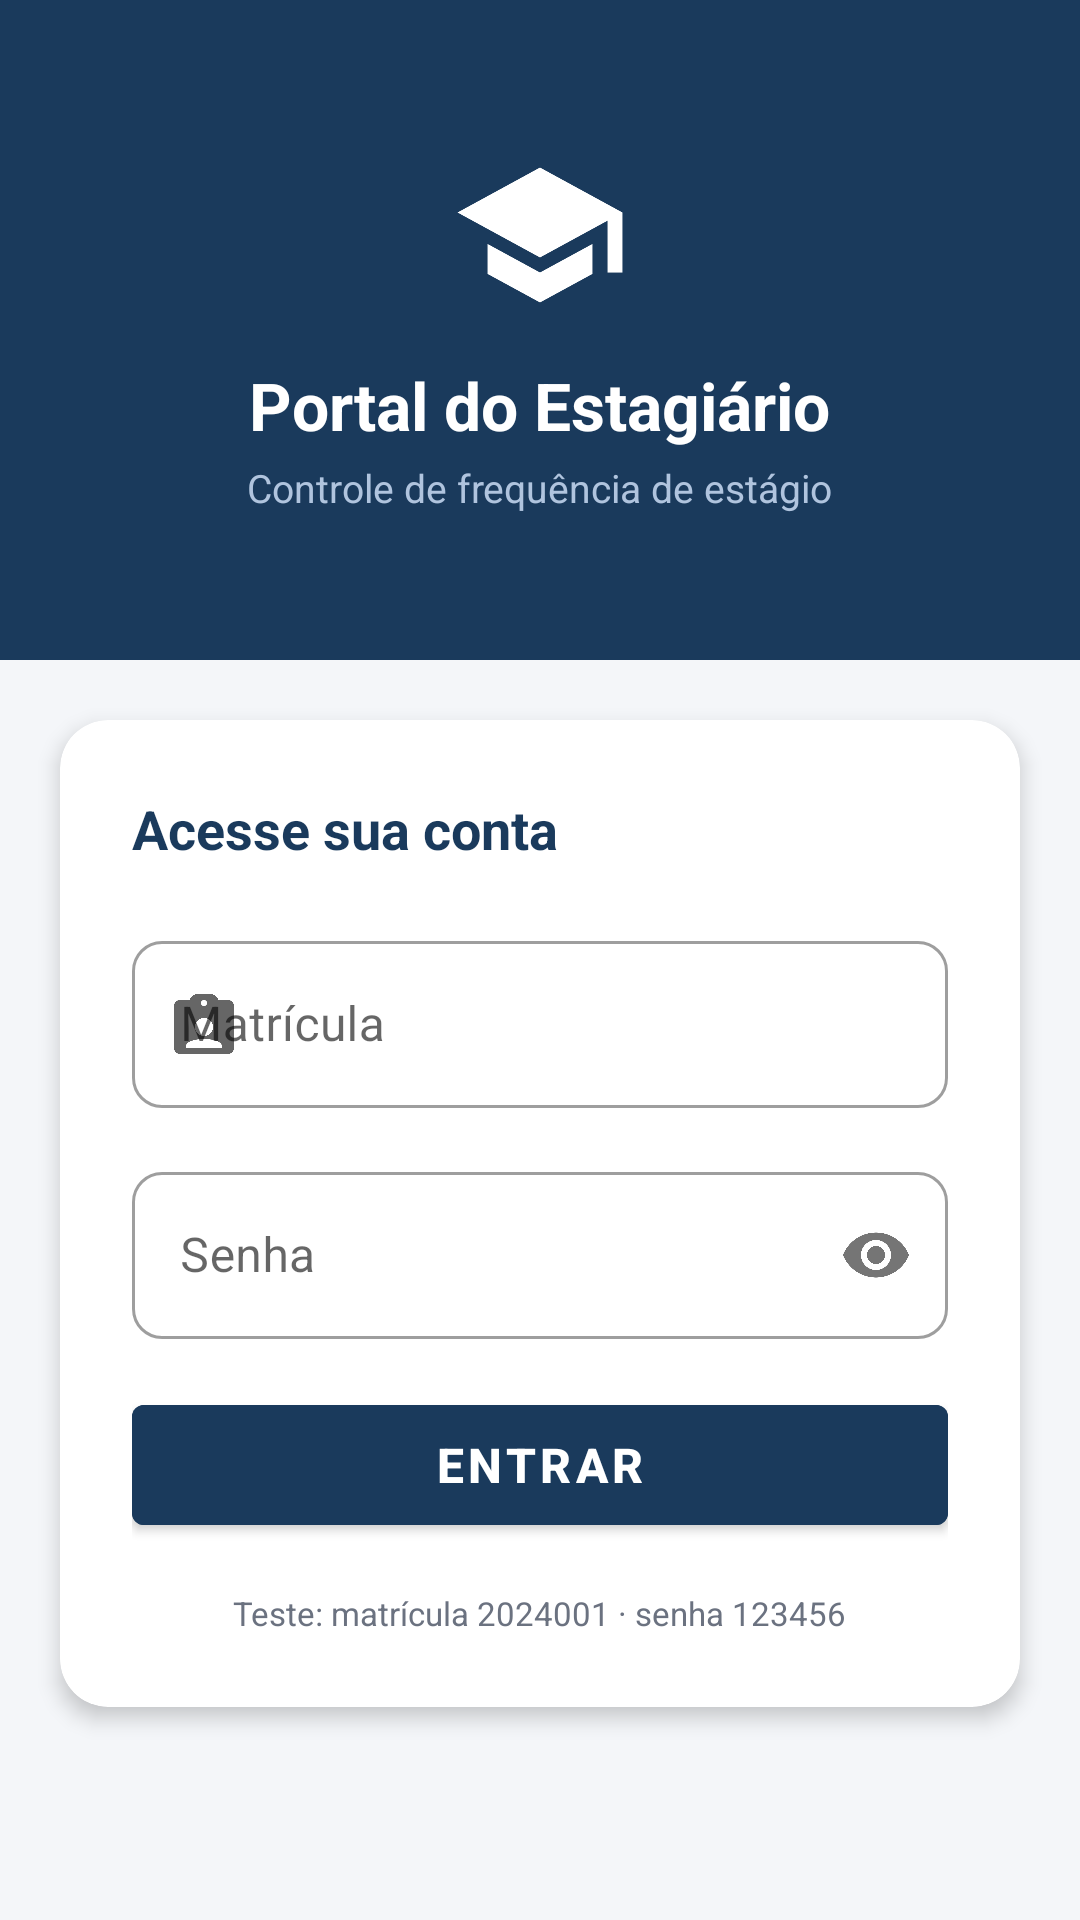

Named icons in this screenshot (1080×1920) and their centers, (x,y):
school: (540,235)
